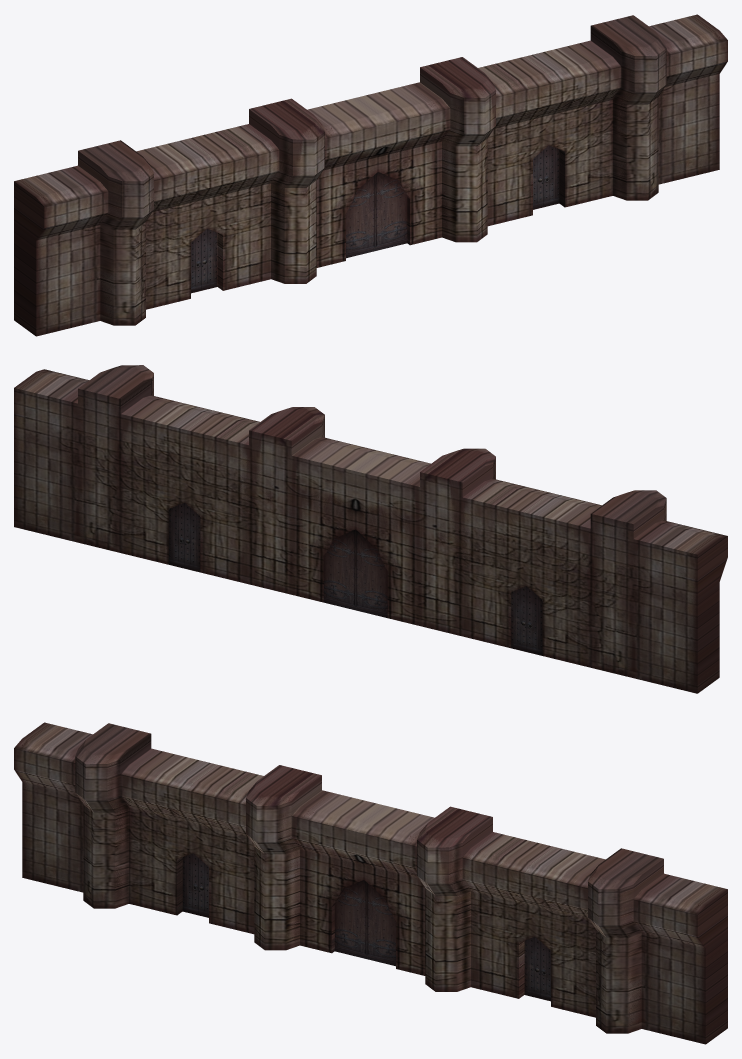
The model's file is castlewall.fbx.
The picture shows the model from 3 angles, top to bottom: view 1: azimuth 30°, elevation 25°; view 2: azimuth 150°, elevation 25°; view 3: azimuth 330°, elevation 25°; orthographic projection.
Parts seen in each view (by area): view 1: CASTLEWALL; view 2: CASTLEWALL; view 3: CASTLEWALL.
Part boxes in pixels (x1,y1,x2,y2): CASTLEWALL: [14, 14, 727, 336]; CASTLEWALL: [14, 365, 727, 693]; CASTLEWALL: [14, 722, 727, 1044].
Size of the model in its own units: 36 by 7.75 by 4.02.
